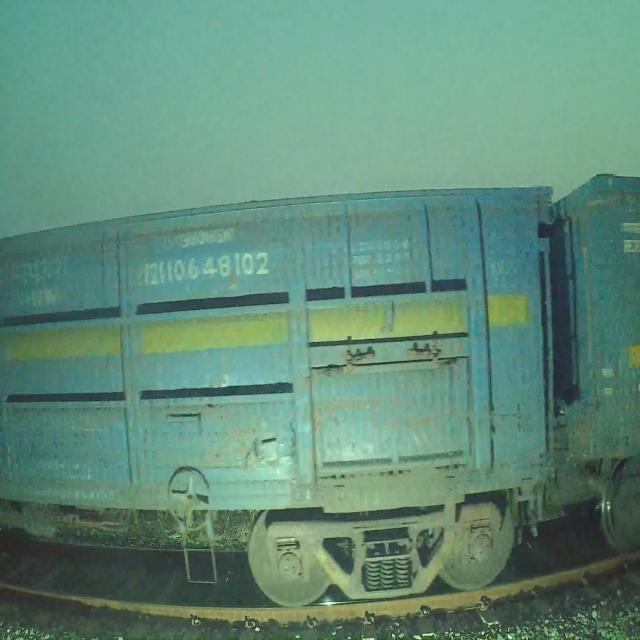WAgon-uic: (0, 178, 571, 611), (495, 165, 640, 559)
uic: (132, 245, 282, 292)
